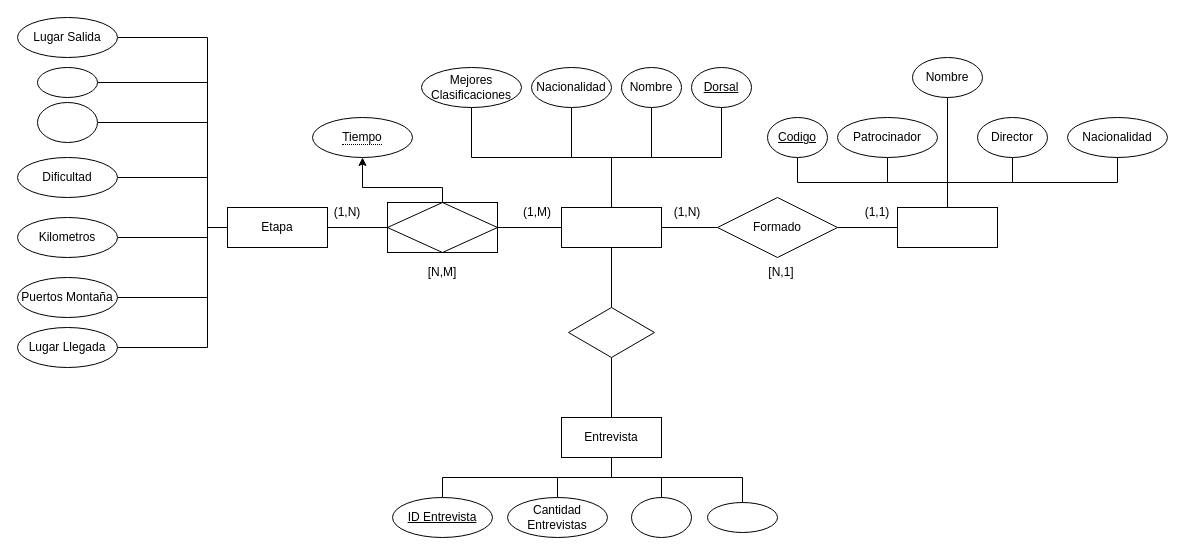
This 1185x555 diagram has some shape labels left out. Each missing label, with the centre of its shape:
"Cadena" belongs at point (661, 517).
"Canon" belongs at point (742, 517).
"Ciclista" belongs at point (611, 227).
"Equipo" belongs at point (947, 227).
"fecha" belongs at point (67, 82).
"Numero" belongs at point (67, 122).
"Recorre" belongs at point (442, 227).
"Tiene" belongs at point (611, 332).
